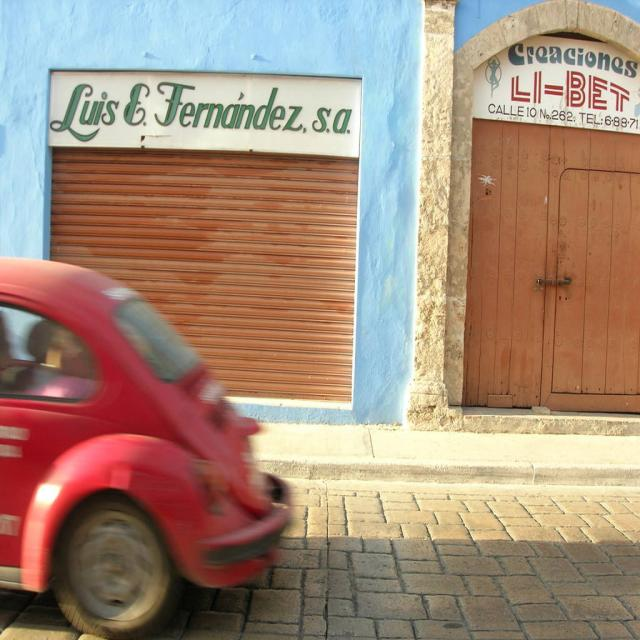other: (0, 253, 294, 639)
